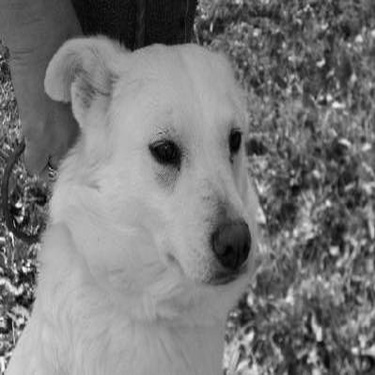dog: (7, 27, 271, 372)
